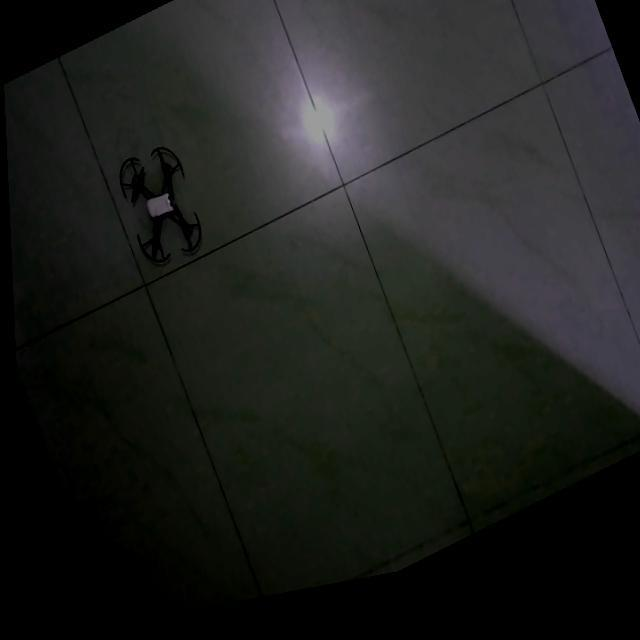drone: (116, 150, 197, 268)
